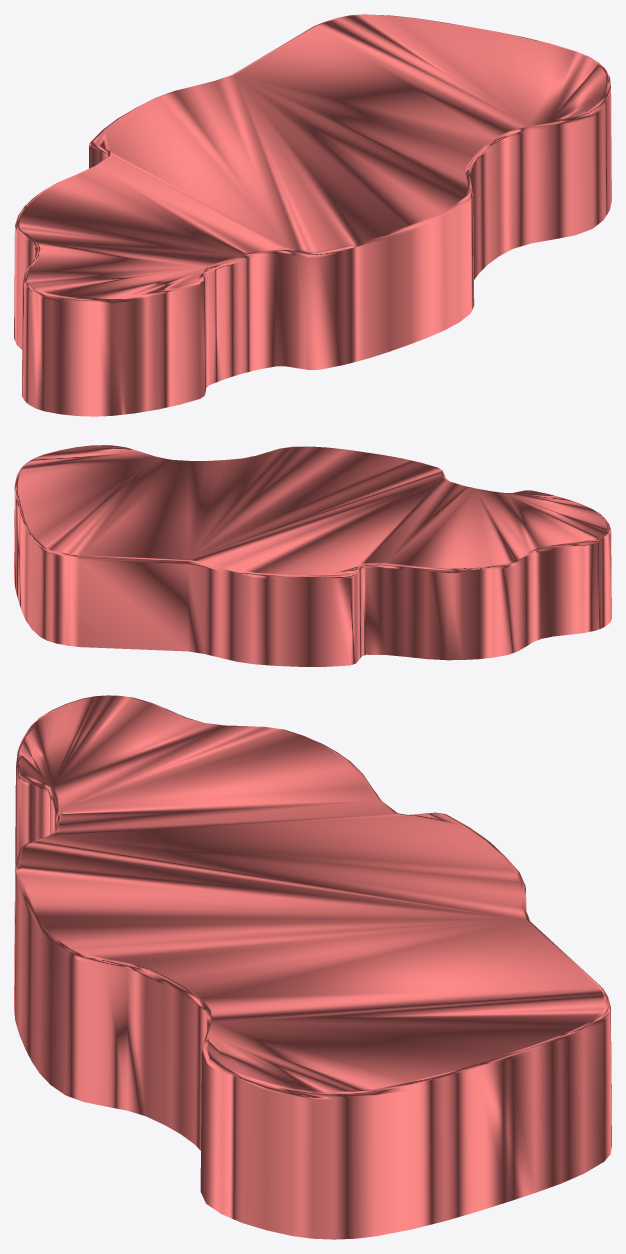
File: lorville_noflyzone_suburb_redout_08.glb
The picture shows the model from 3 angles, top to bottom: view 1: azimuth 30°, elevation 25°; view 2: azimuth 150°, elevation 25°; view 3: azimuth 270°, elevation 25°; orthographic projection. The views are drawn at different scales.
Size of the model in its own units: 9469 by 1591 by 5956.
